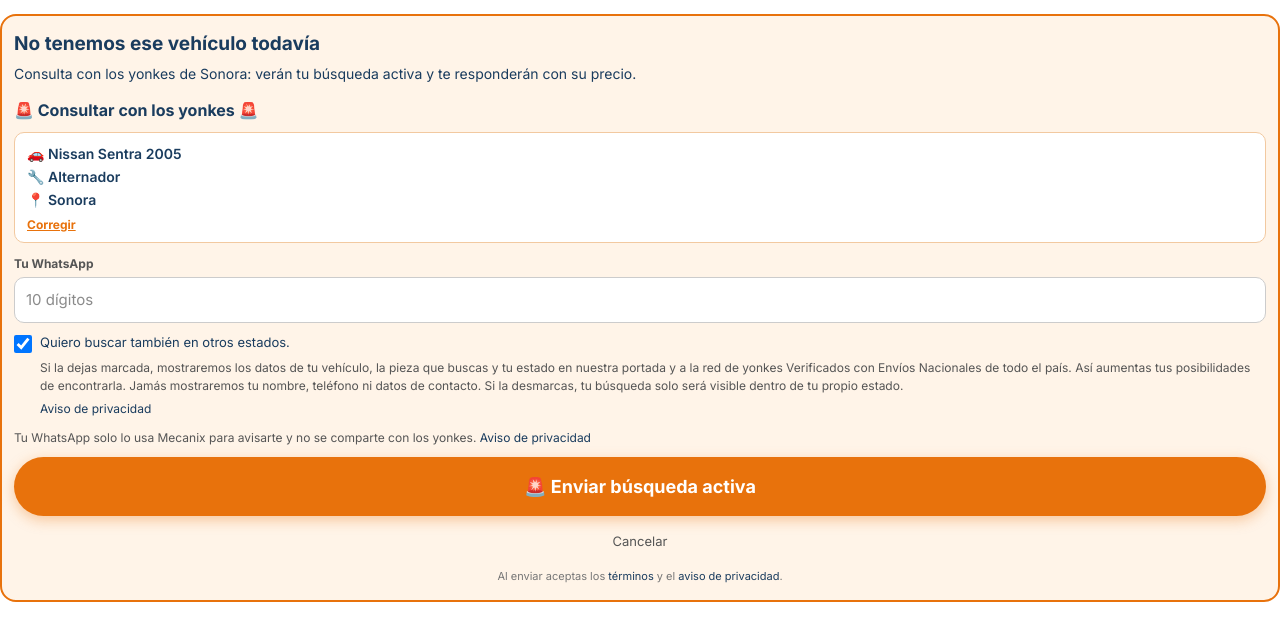
sin el modo número (bandera apagada): igual que hoy › confirmación de siempre (con "Ver mi alerta")
In the field labelled "Tu WhatsApp": (640, 300) x1=14 y1=277 x2=1266 y2=323, type "6641234567"
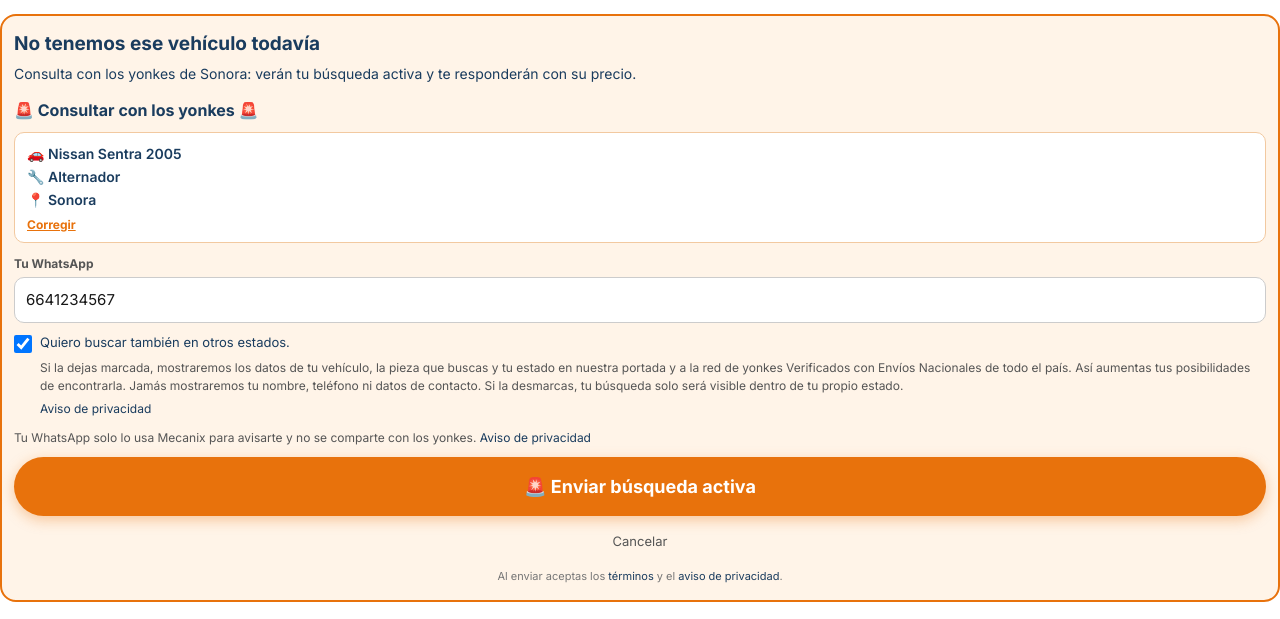
Click the button "🚨 Enviar búsqueda activa": (640, 487) x1=14 y1=457 x2=1266 y2=516
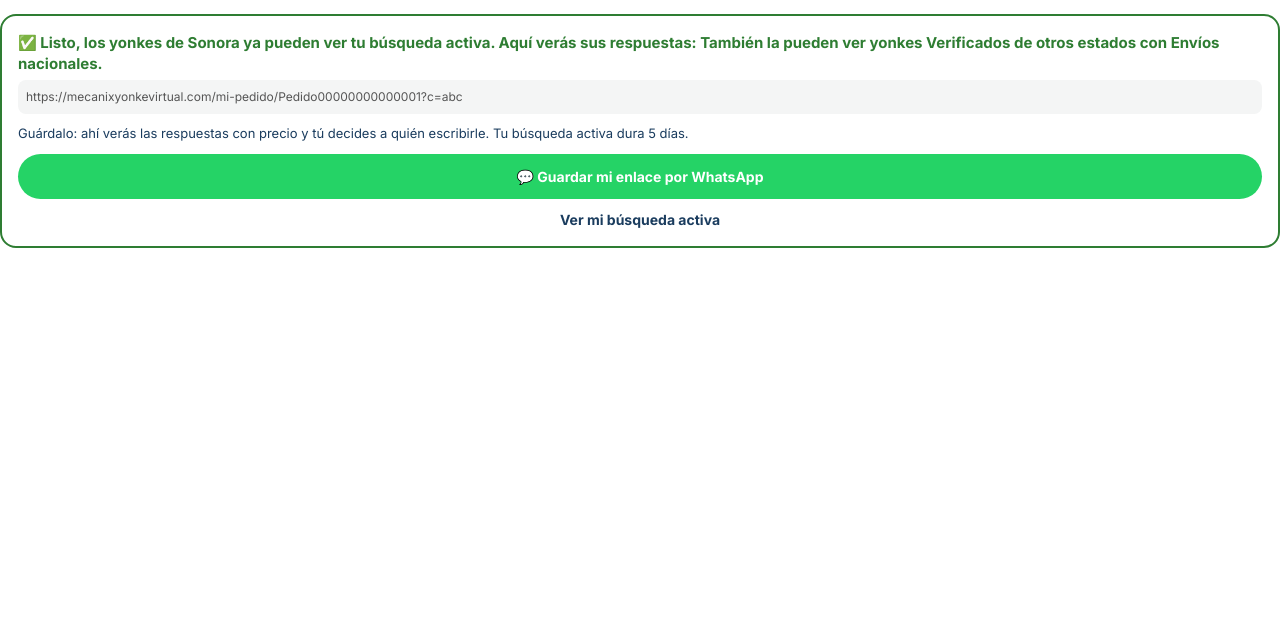
Now the text "✅ Listo, los yonkes de Sonora ya pueden ver tu búsqueda activa. Aquí verás sus respuestas:" is shown, box x1=18 y1=33 x2=697 y2=52
Now the link "Ver mi búsqueda activa" is shown, box x1=560 y1=210 x2=720 y2=228
